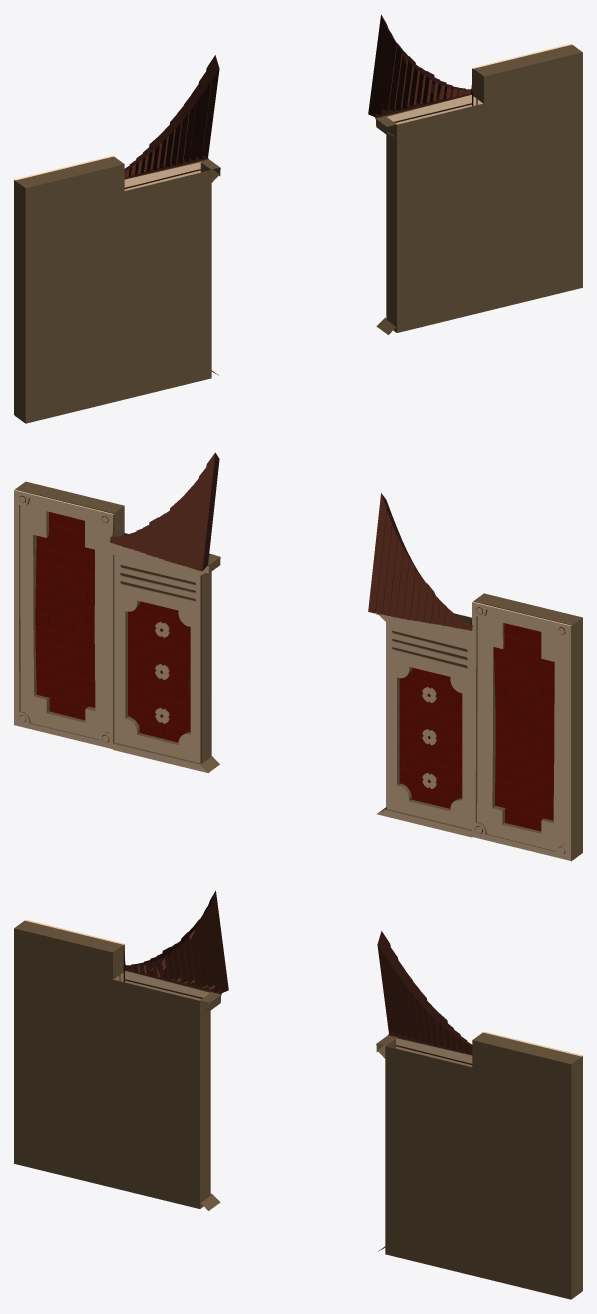
File: Door.fbx
3 views of the same model, one above another, from view 1: azimuth 30°, elevation 25°; view 2: azimuth 150°, elevation 25°; view 3: azimuth 330°, elevation 25° (orthographic).
Parts seen in each view (by area): view 1: Puerta; view 2: Puerta; view 3: Puerta.
Boxes of the visible parts, bbox=[...] form: Puerta: bbox=[14, 14, 582, 423]; Puerta: bbox=[14, 452, 582, 861]; Puerta: bbox=[14, 890, 582, 1299].
Size of the model in its own units: 1126 by 612 by 66.77.
